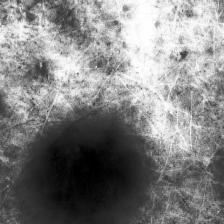Benign Marking or Mole: (31, 124, 140, 224)
